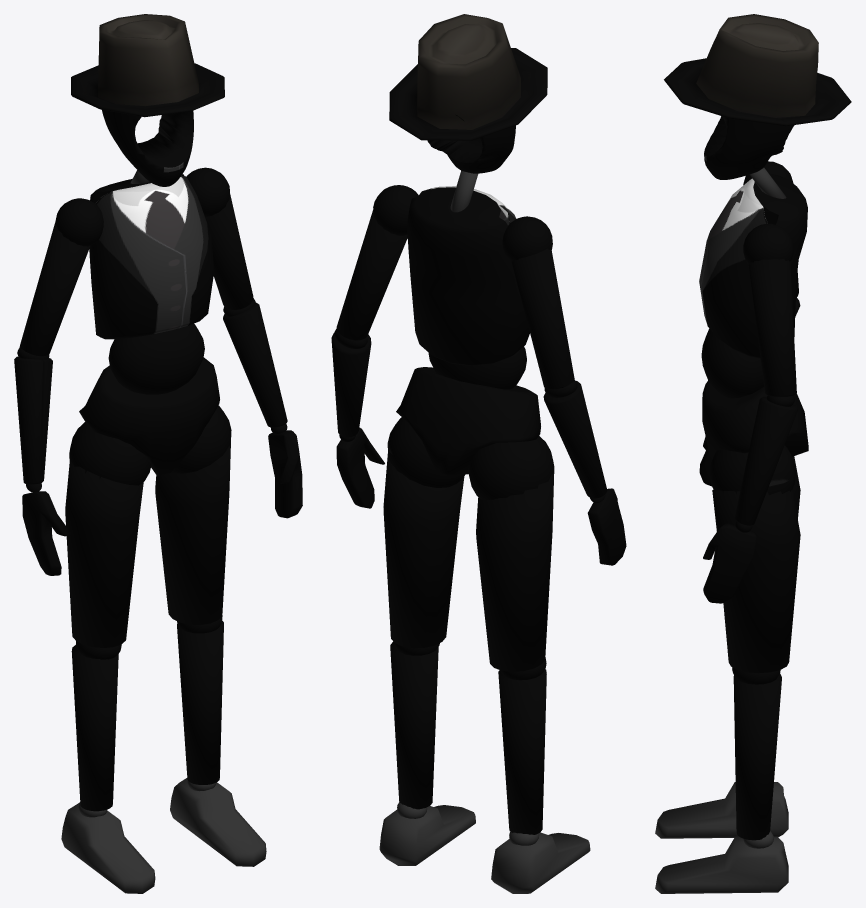
File: Maniqui (3).fbx
3 views of the same model, side by side, from view 1: azimuth 30°, elevation 25°; view 2: azimuth 150°, elevation 25°; view 3: azimuth 270°, elevation 25° (orthographic). The views are drawn at different scales.
Visible parts, largest first — view 1: Maniqui, Sombrero, Face; view 2: Maniqui, Sombrero, Face; view 3: Maniqui, Sombrero, Face.
Part boxes in pixels (box(x1,y1,x2,y2)): Maniqui: box(14, 167, 302, 893); Sombrero: box(71, 14, 224, 117); Face: box(102, 110, 193, 186); Maniqui: box(331, 170, 626, 893); Sombrero: box(389, 14, 547, 140); Face: box(427, 114, 515, 173); Maniqui: box(655, 161, 808, 893); Sombrero: box(664, 14, 851, 126); Face: box(704, 116, 794, 179).
Bounding box in the file's own units: 283 × 843 × 180.
Materials: 2 (2 with a texture image).
